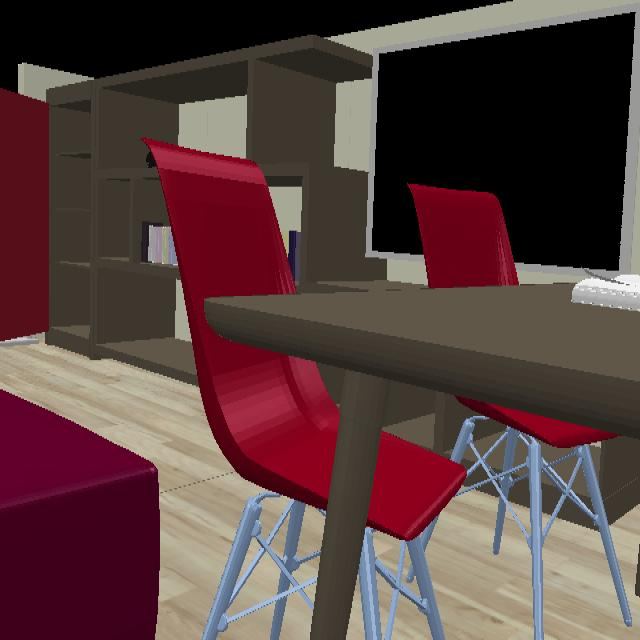book: (142, 223, 178, 265), (287, 232, 302, 284)
bookshelf: (49, 44, 371, 386)
chair: (142, 139, 340, 512), (455, 397, 620, 640), (365, 433, 466, 640), (408, 183, 519, 289)
monitor: (373, 9, 640, 272)
sofa: (0, 391, 161, 640)
